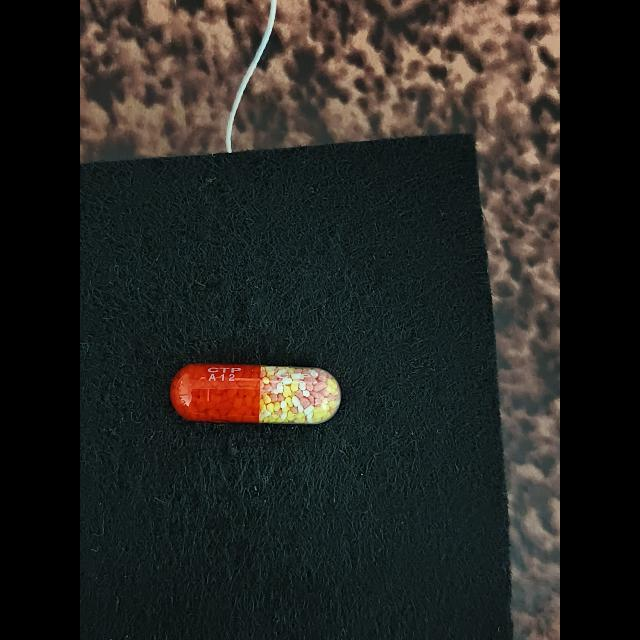Intact Capsule: (170, 364, 341, 424)
